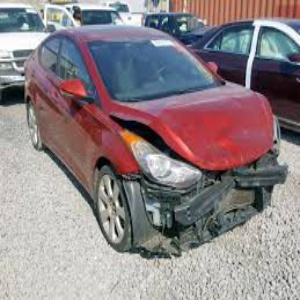bonnet: (138, 97, 273, 160)
bumper: (131, 178, 271, 247)
